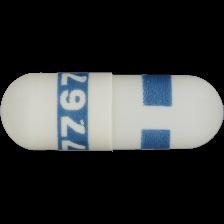59762-1516: (0, 0, 224, 224)
